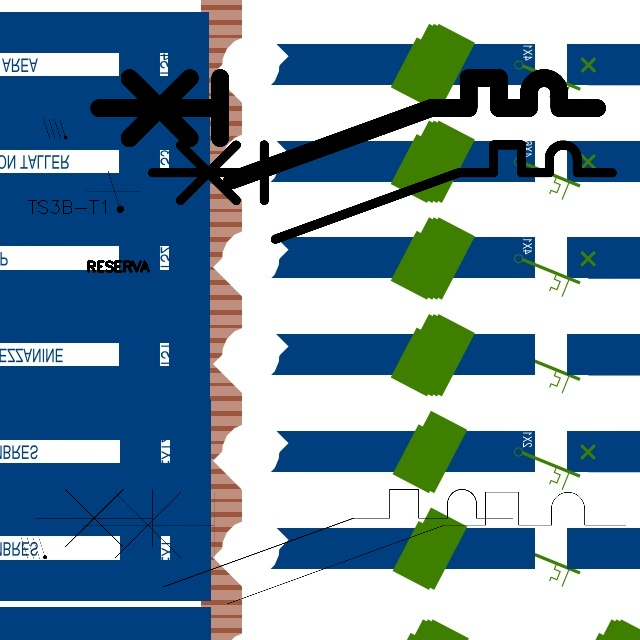interruptor_termomagnetico: (67, 478, 639, 618), (86, 65, 610, 193), (24, 477, 525, 599), (140, 133, 623, 251)
